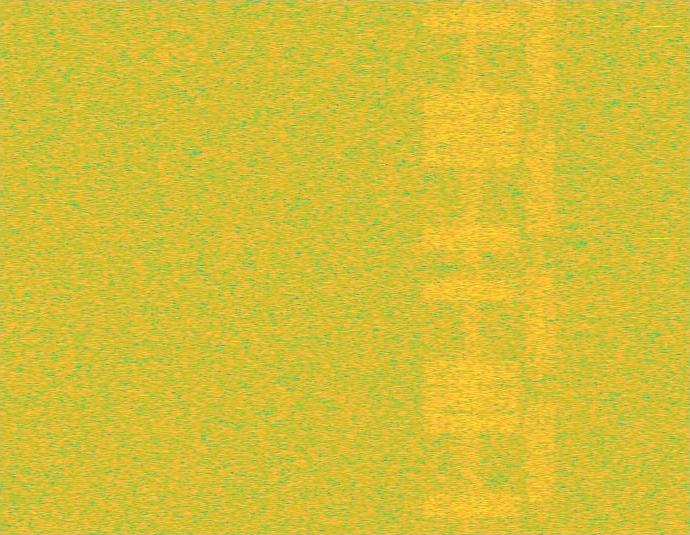5G: (523, 0, 558, 534)
DSSS: (460, 0, 483, 534), (538, 0, 543, 534)
LTE: (420, 0, 523, 534)
Radar: (653, 0, 667, 534)
